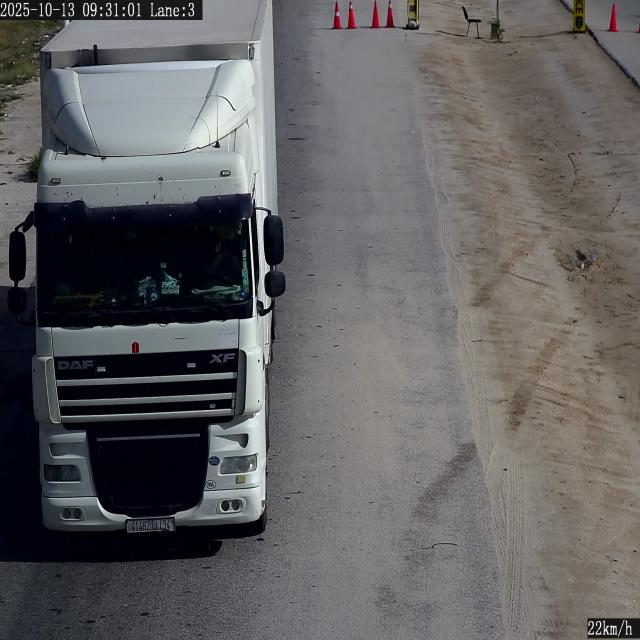BUS: (127, 518, 175, 532)
